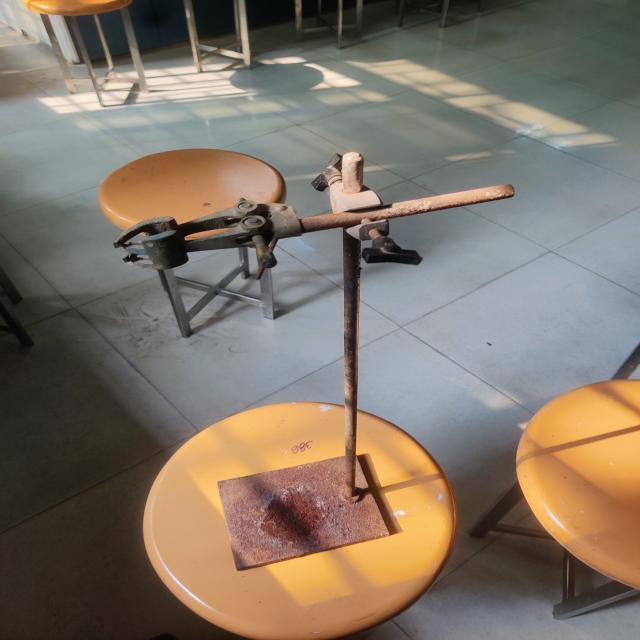Burette_Stands: (56, 127, 558, 588)
